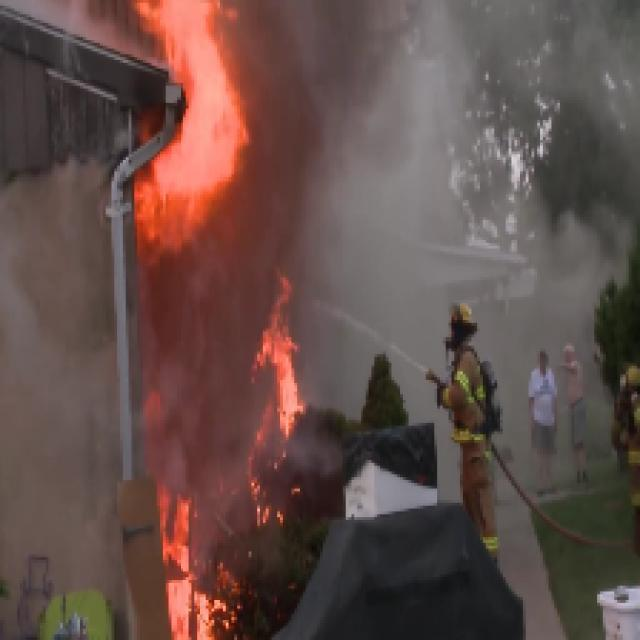Fire: (108, 303, 360, 640), (74, 0, 297, 277)
Smoke: (377, 0, 640, 346)
